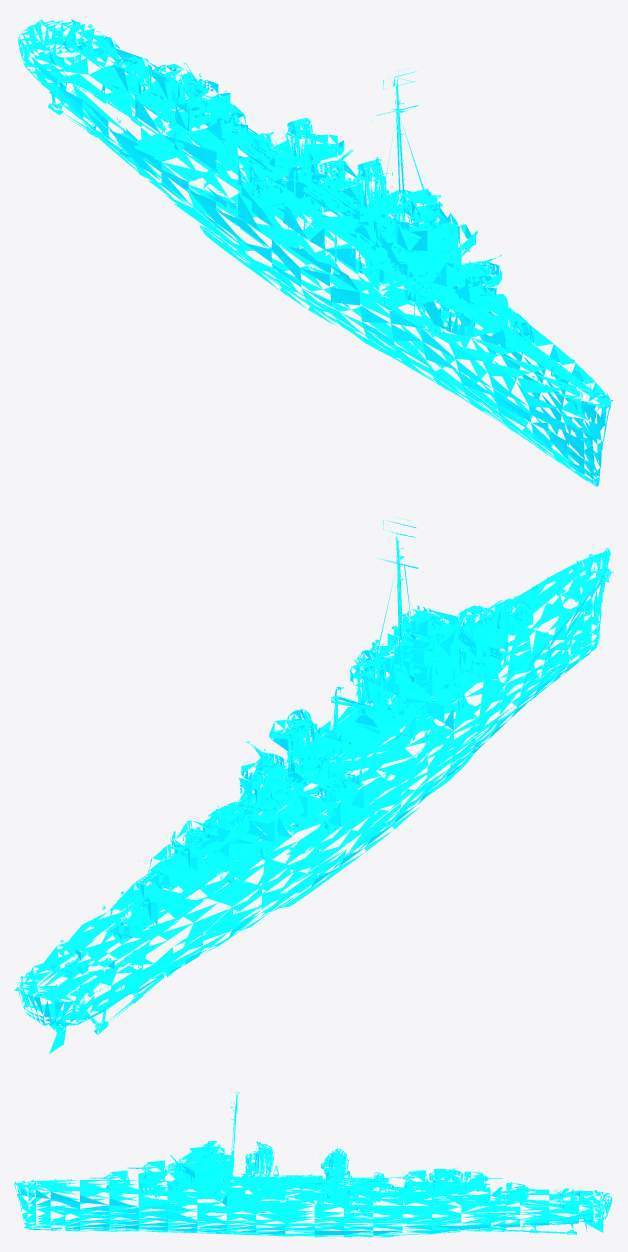
File: PASD719.glb
The picture shows the model from 3 angles, top to bottom: view 1: azimuth 30°, elevation 25°; view 2: azimuth 150°, elevation 25°; view 3: azimuth 270°, elevation 25°; orthographic projection. The views are drawn at different scales.
Parts seen in each view (by area): view 1: hull, turret; view 2: hull, turret; view 3: hull, turret.
Part boxes in pixels (x1=…): hull: x1=18, y1=19, x2=613, y2=486; turret: x1=104, y1=51, x2=536, y2=351; hull: x1=14, y1=517, x2=613, y2=1054; turret: x1=105, y1=592, x2=536, y2=938; hull: x1=14, y1=1092, x2=612, y2=1237; turret: x1=90, y1=1155, x2=544, y2=1201.
Bounding box in the file's own units: 0.8458 × 2.08 × 7.66.
